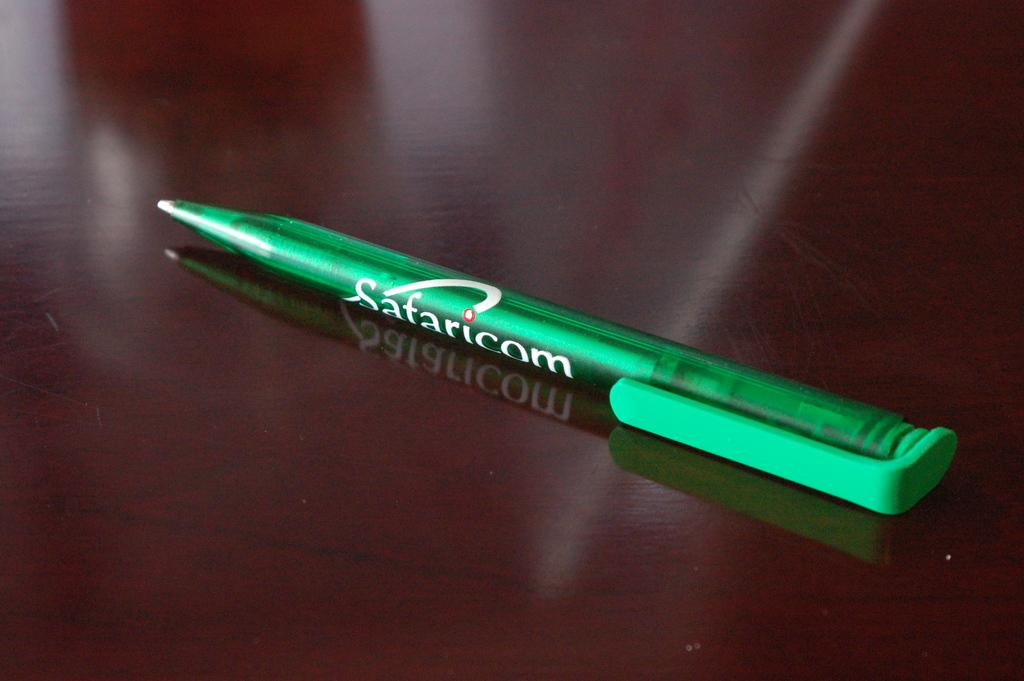pen: (157, 199, 959, 524)
